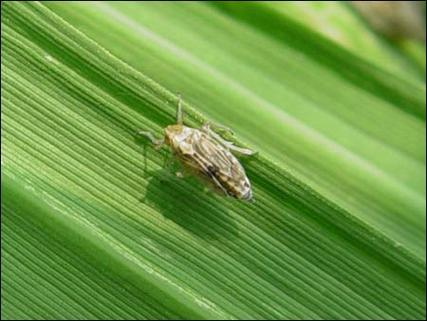Delphacidae: (137, 92, 259, 203)
